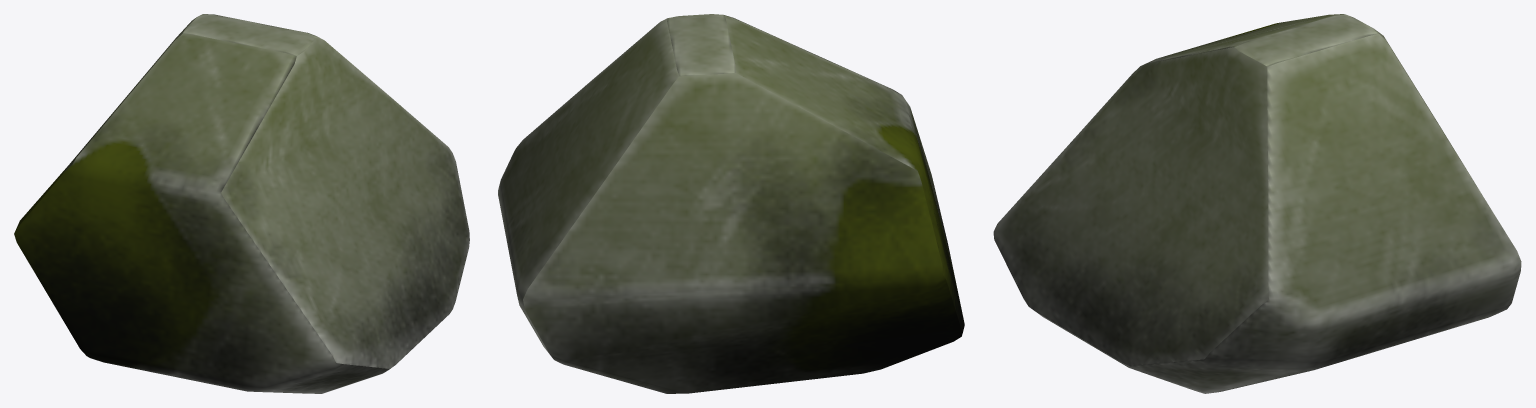
Rendered from rock10_unity.fbx.
3 renders of one model, left to right at view 1: azimuth 30°, elevation 25°; view 2: azimuth 150°, elevation 25°; view 3: azimuth 270°, elevation 25°, orthographic. The views are drawn at different scales.
Parts seen in each view (by area): view 1: Object008; view 2: Object008; view 3: Object008.
Boxes of the visible parts, left/top/right/bottom form: Object008: left=14, top=14, right=469, bottom=393; Object008: left=498, top=14, right=964, bottom=393; Object008: left=993, top=14, right=1521, bottom=393.
Size of the model in its own units: 30.7 by 31.47 by 19.96.
1 material, 1 textured.
